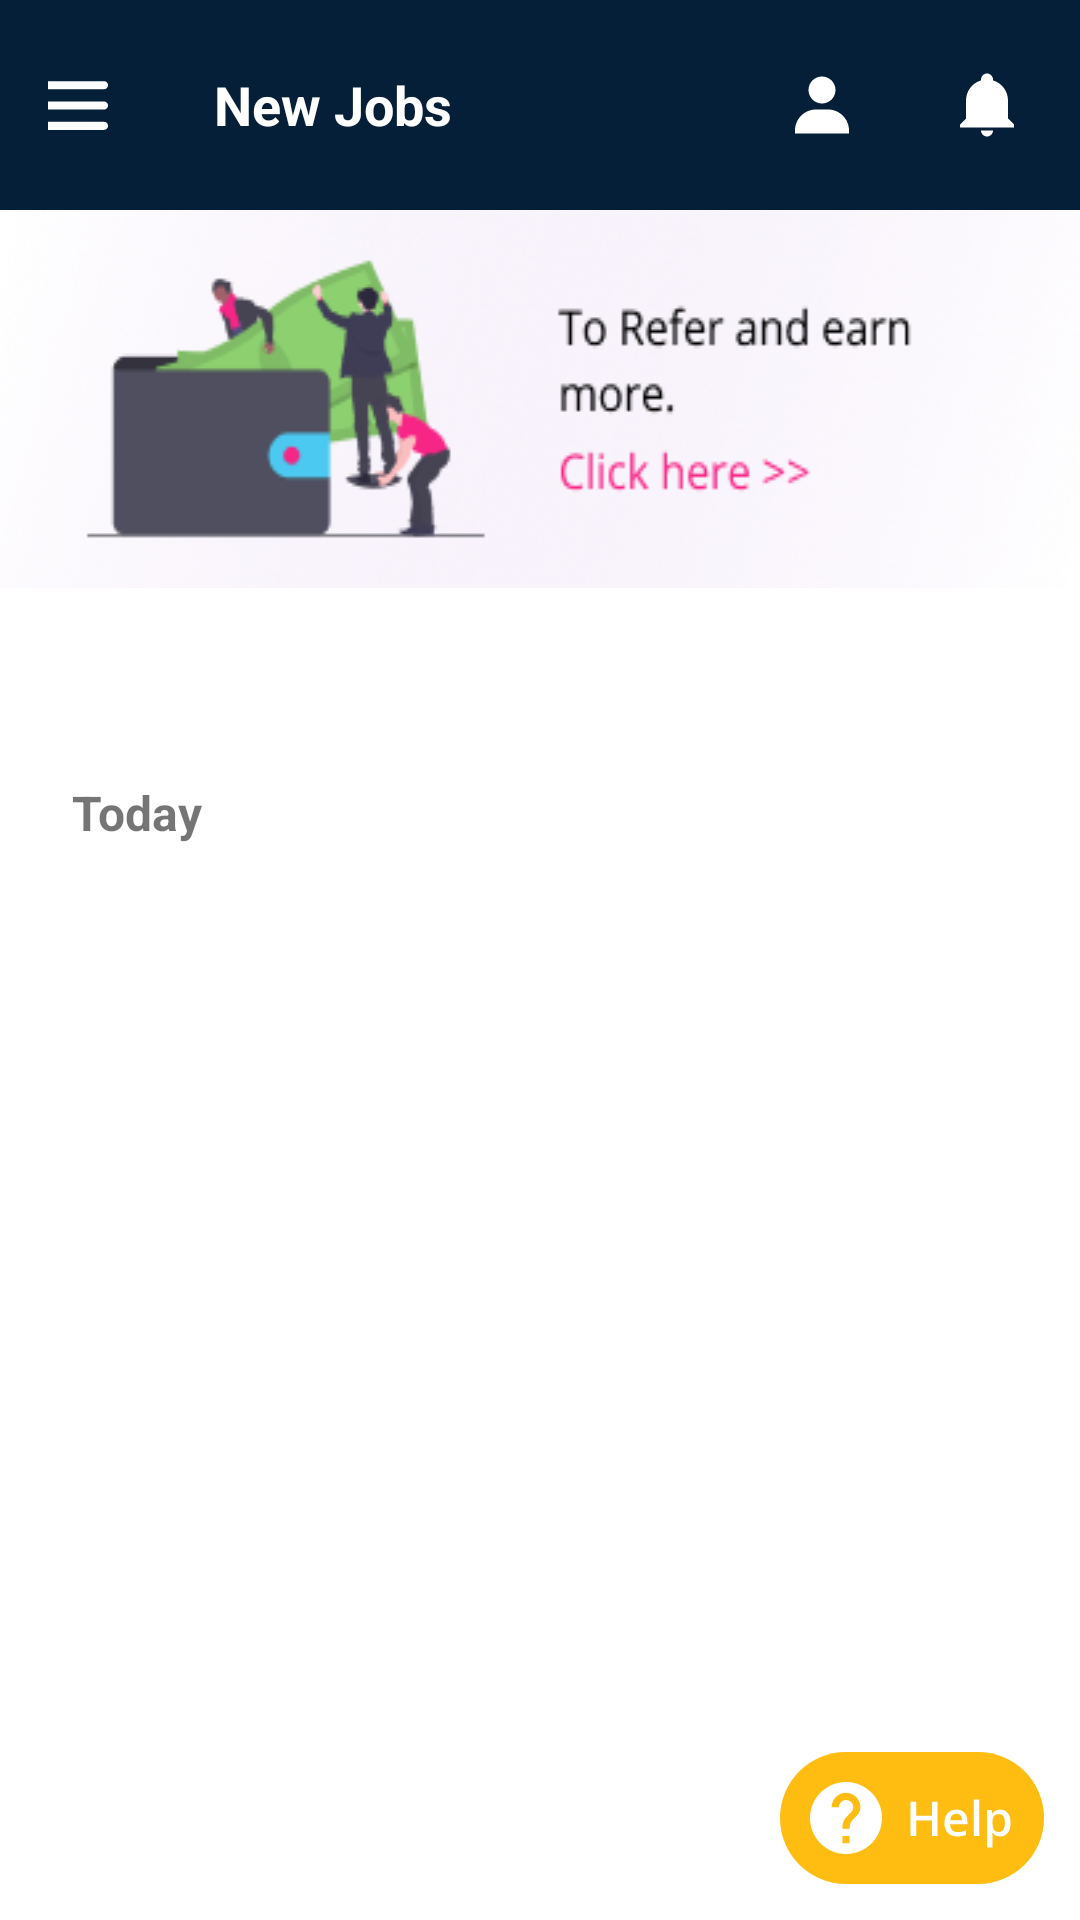

Point at icon controls on the screen. Image size 1080 × 1920, points as [x,y].
notification: [987,105]
user: [822,105]
